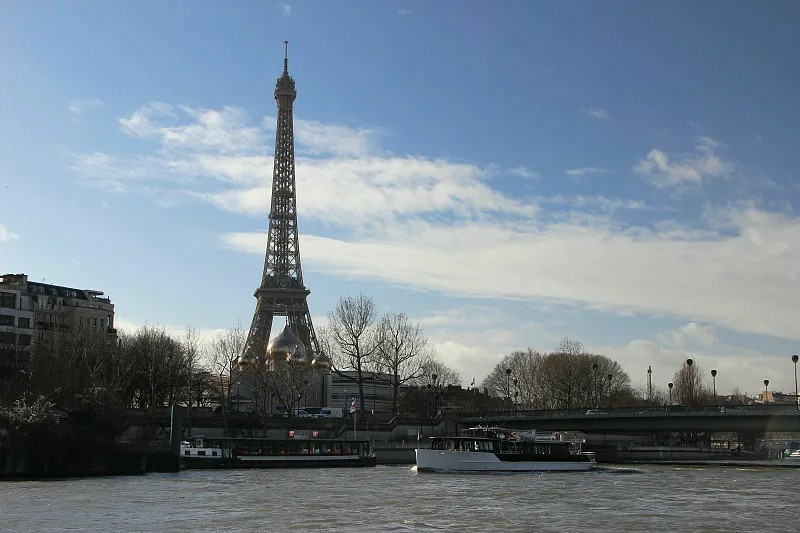Eiffel: (242, 41, 328, 370)
